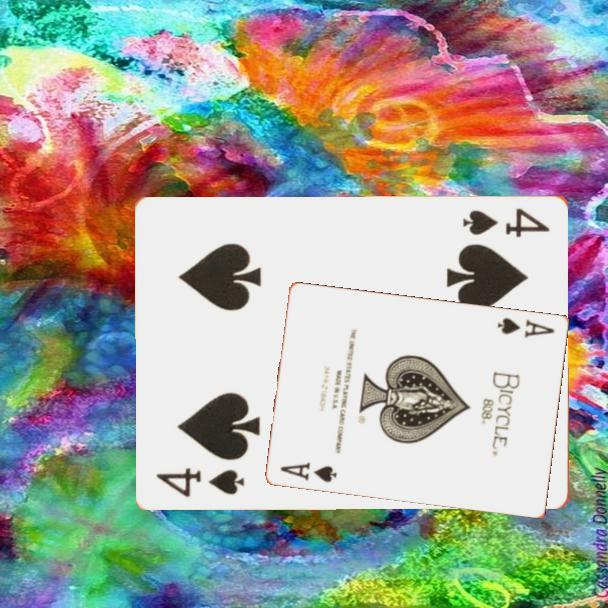s01: (277, 458, 340, 485), (494, 314, 558, 340)
s04: (153, 463, 248, 499), (460, 204, 553, 240)
